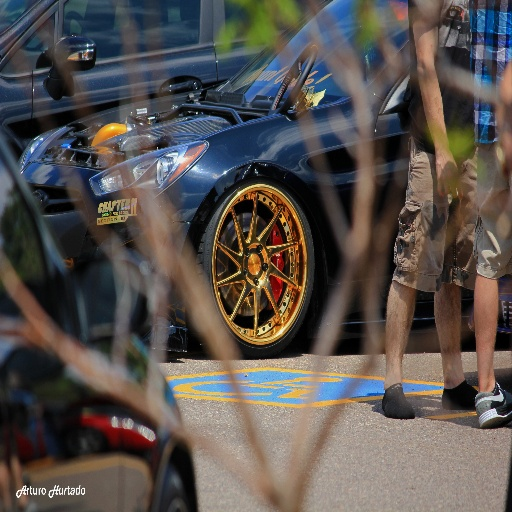hand: (437, 150, 464, 197)
